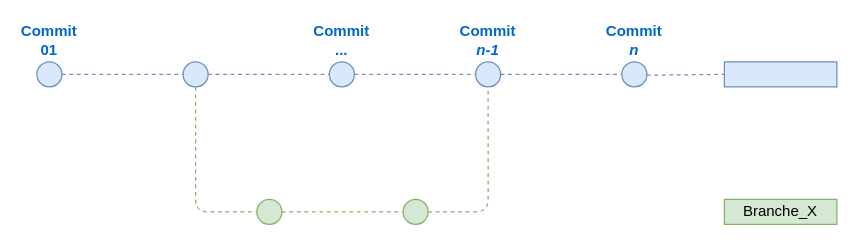
The diagram is 859 pixels wide and 246 high, and some of its shapes have lost their labels. Each missing label, with the box of its shape:
Commit 02: (182, 61, 208, 87)
Main: (723, 61, 837, 87)
